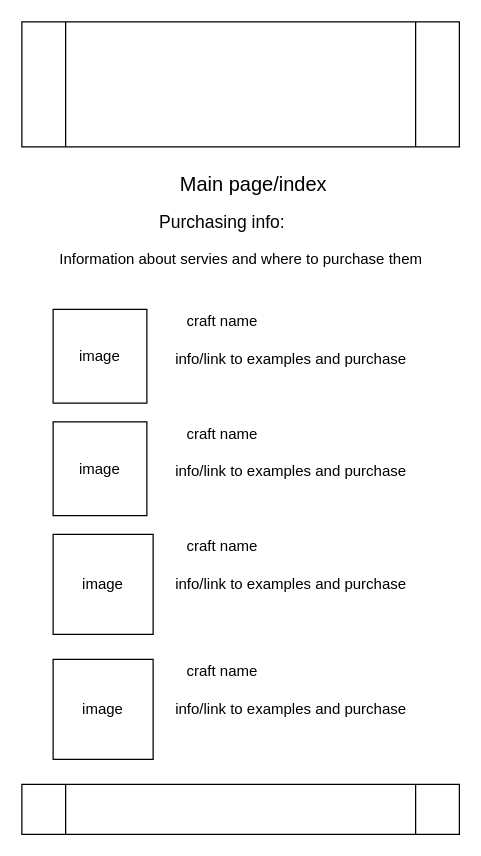
Image size: 481x856. Some labels were removed from this diagram. Each missing label, with the centre of its shape:
"Banner/links/header" goes at point (240, 84).
"Footer/Purchase Links" goes at point (240, 808).
